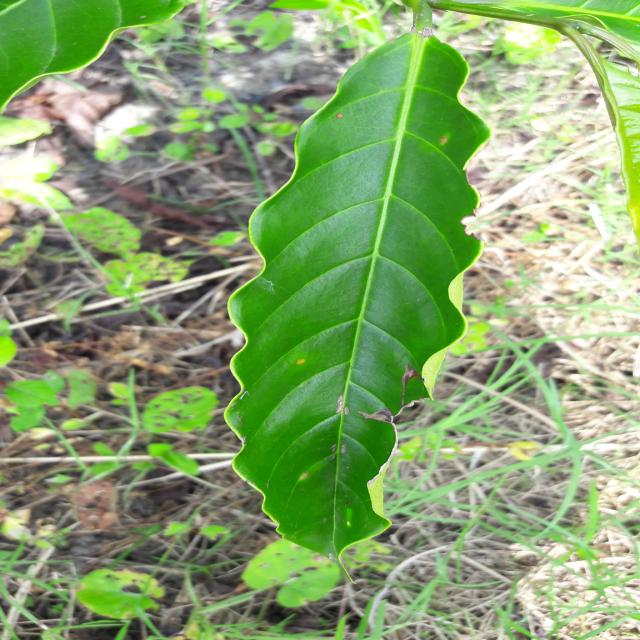Enfermedad-Roya: (224, 33, 491, 563)
